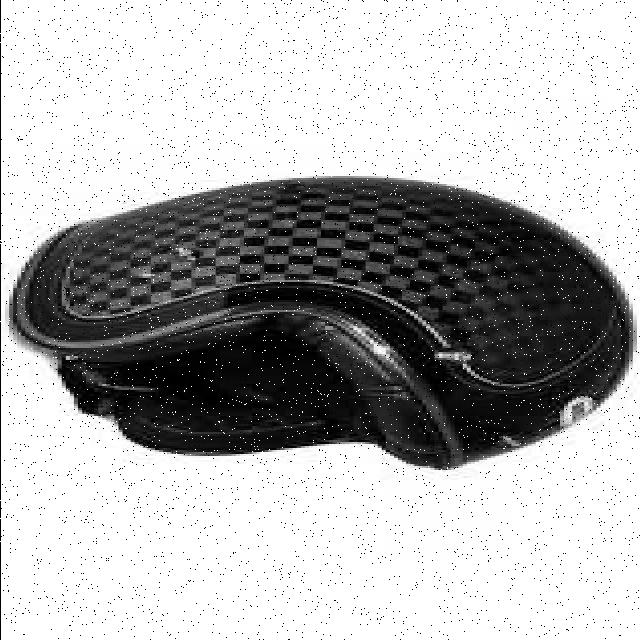Helmet: (1, 168, 633, 472)
